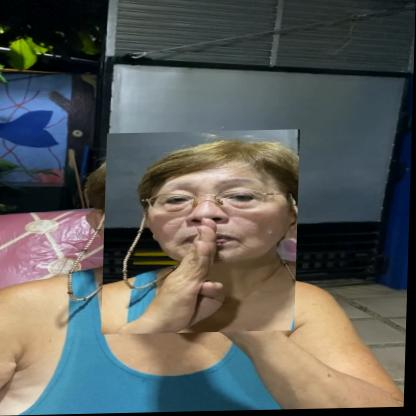Talk: (103, 131, 301, 335)
